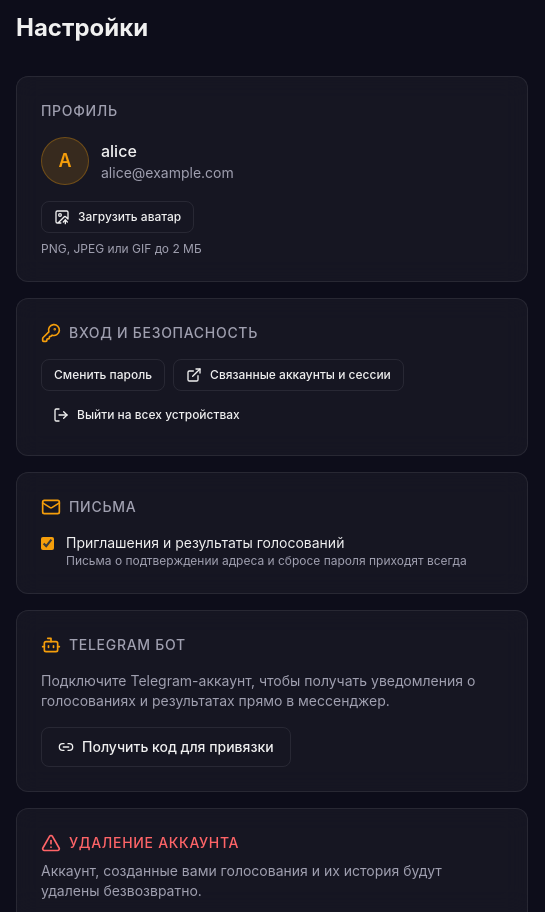
SettingsPage › returns to the initial state on cancel
Step 1. Click the button "Получить код для привязки" → coordinates (166, 747), box x1=41 y1=727 x2=291 y2=767
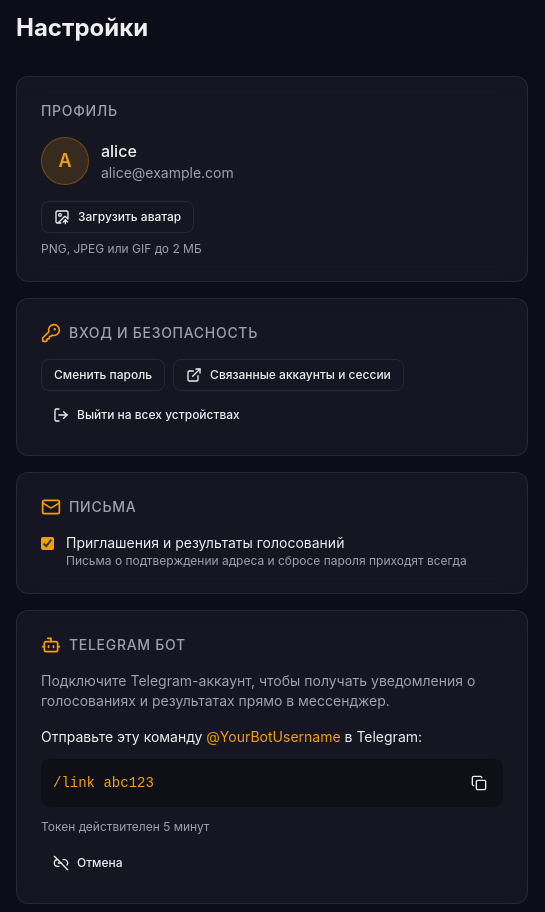
Step 2. Click the button "Отмена" → coordinates (88, 863), box x1=41 y1=847 x2=135 y2=879
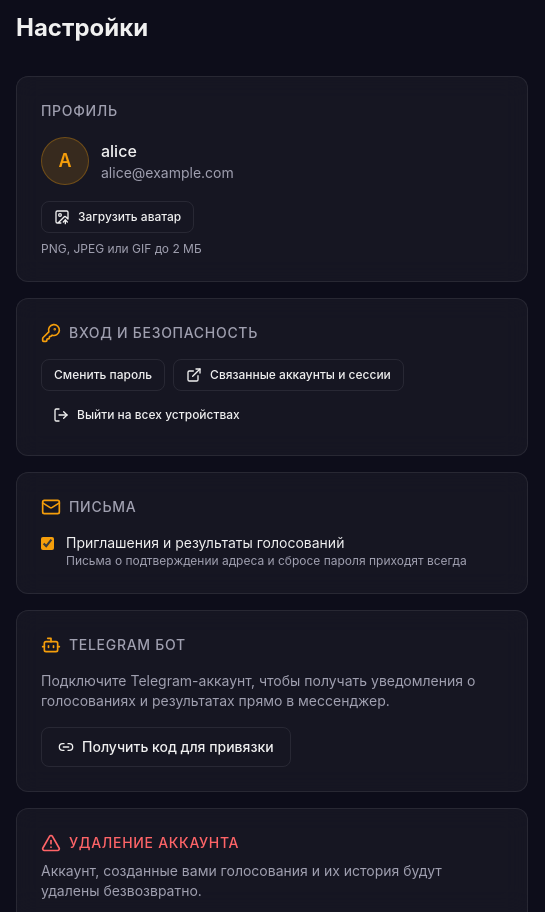
Expected: the text "/link abc123" is gone
Expected: the button "Получить код для привязки" is shown, x1=41 y1=727 x2=291 y2=767
